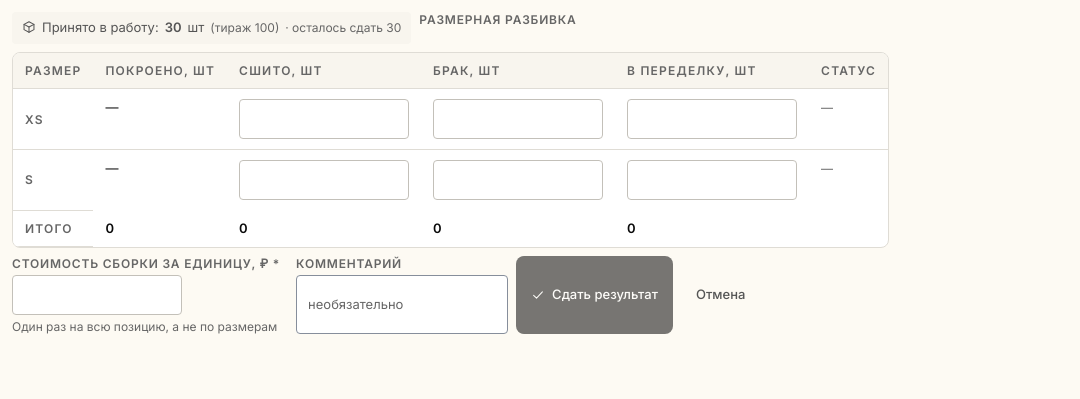
Test: результат пошива по размерам (правка 16.09, п. 6) › превышение принятого названо числами и гасит кнопку
The width and height of the screenshot is (1080, 399).
Check: the table is shown, box 13,53 -> 888,246
In the number field named "XS, Сшито": point(324, 119) 239,99 -> 409,139, type "12"
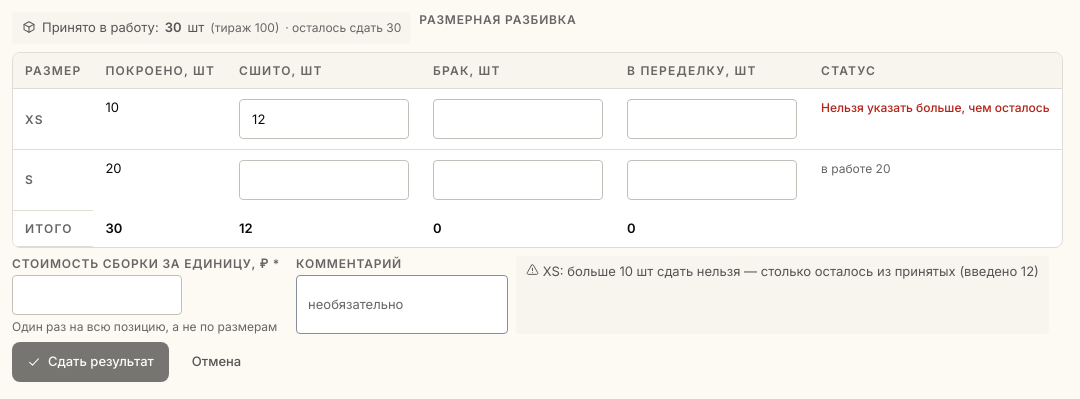
Check: the button "Сдать результат" is disabled, box 12,342 -> 169,382
Check: the text "XS: больше 10 шт сдать нельзя — столько осталось из принятых (введено 12)" is shown, box 516,256 -> 1049,334
